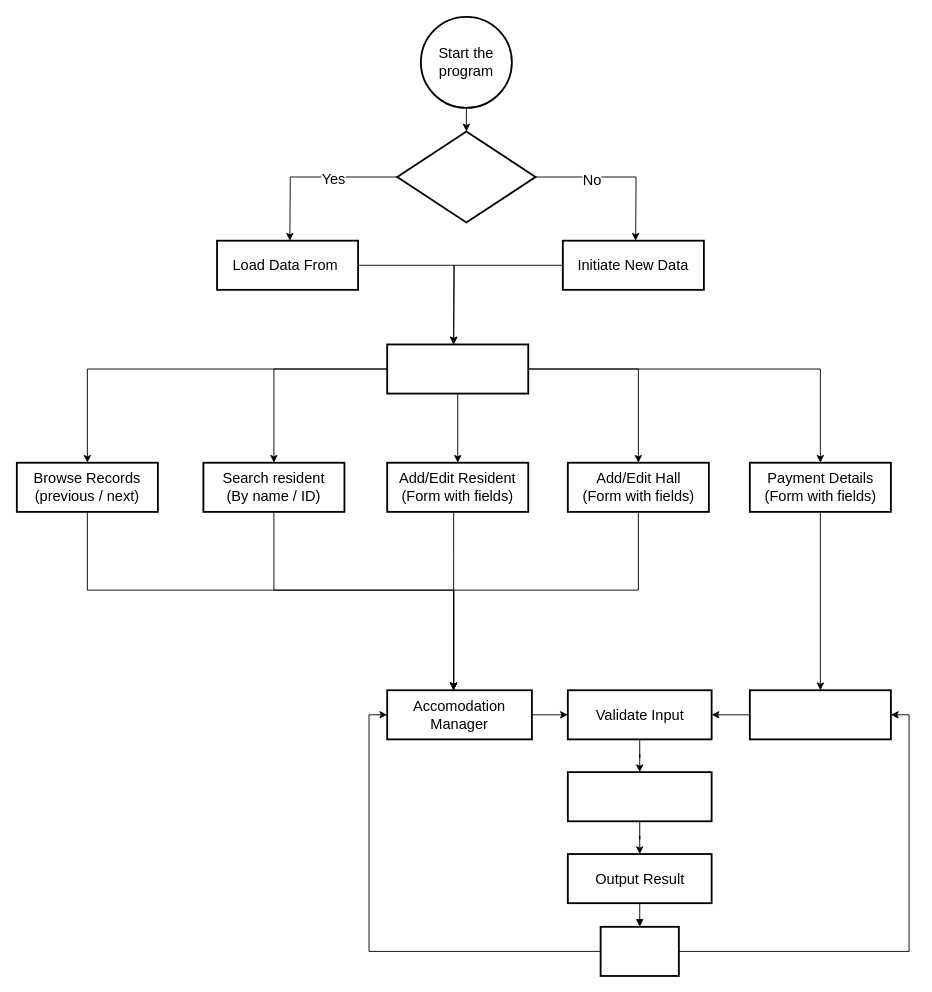
This 932x992 diagram has some shape labels left out. The shapes that lost their labels are listed below. From the top down, each one's centre as x and y in pixels, then its label:
At (x=466, y=176): "data exsists".
At (x=457, y=368): "Main GUI Window".
At (x=819, y=714): "Payment Manager".
At (x=639, y=796): "Execute Querry".
At (x=639, y=950): "Return".
